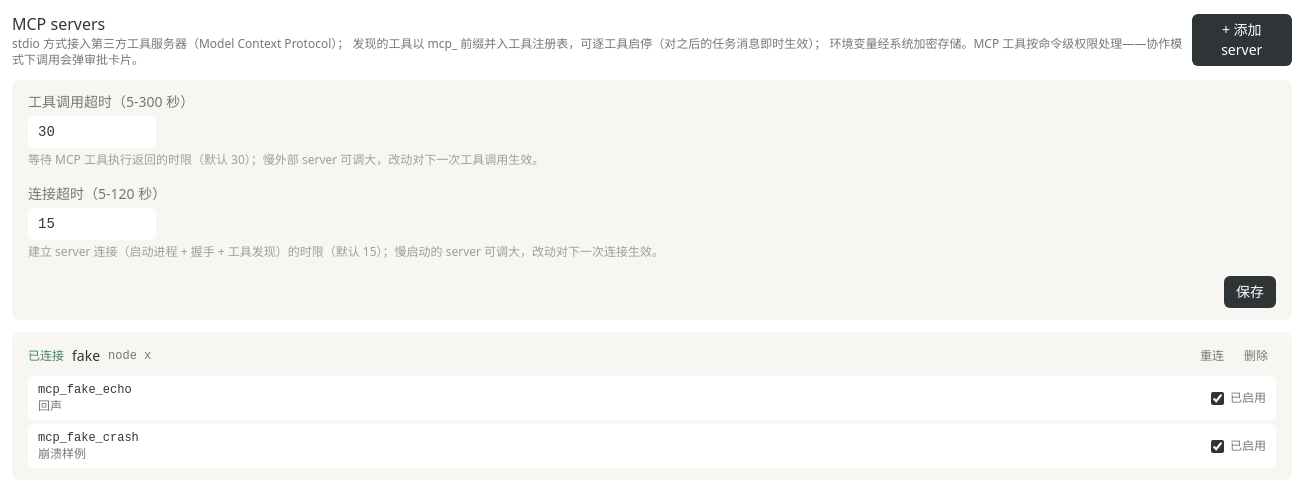
逐工具启停乐观更新 › 点击瞬间同步翻转呈现（不等 IPC 往返），受控回写不再闪回旧值
Click the checkbox with test id "mcp-tool-toggle-mcp_fake_crash" at (1218, 446), box [1211,440,1224,452]
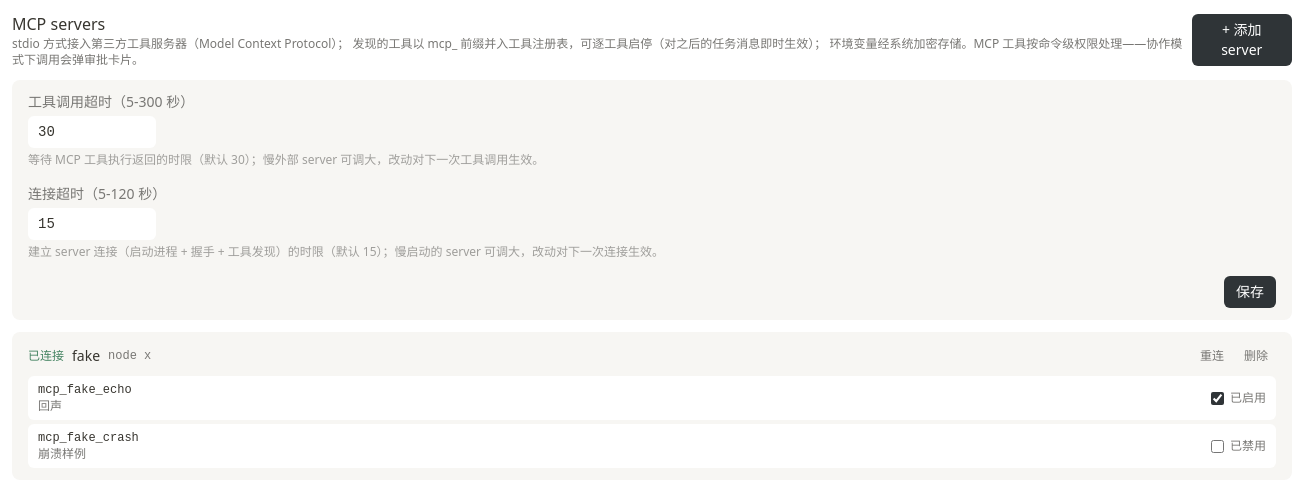
Now the checkbox with test id "mcp-tool-toggle-mcp_fake_crash" is not checked, box [1211,440,1224,452]
Now the label with test id "mcp-tool-toggle-mcp_fake_crash" reads "已禁用", box [1230,437,1266,454]
